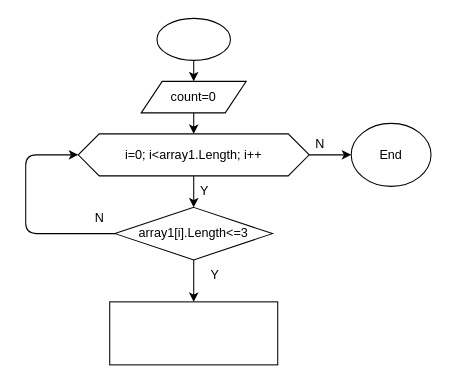
Image size: 449x383. Some labels were removed from this diagram. Each missing label, with the box of its shape:
array2[count] = array1[i]; count++;: (109, 301, 278, 365)
Start: (156, 17, 230, 60)
